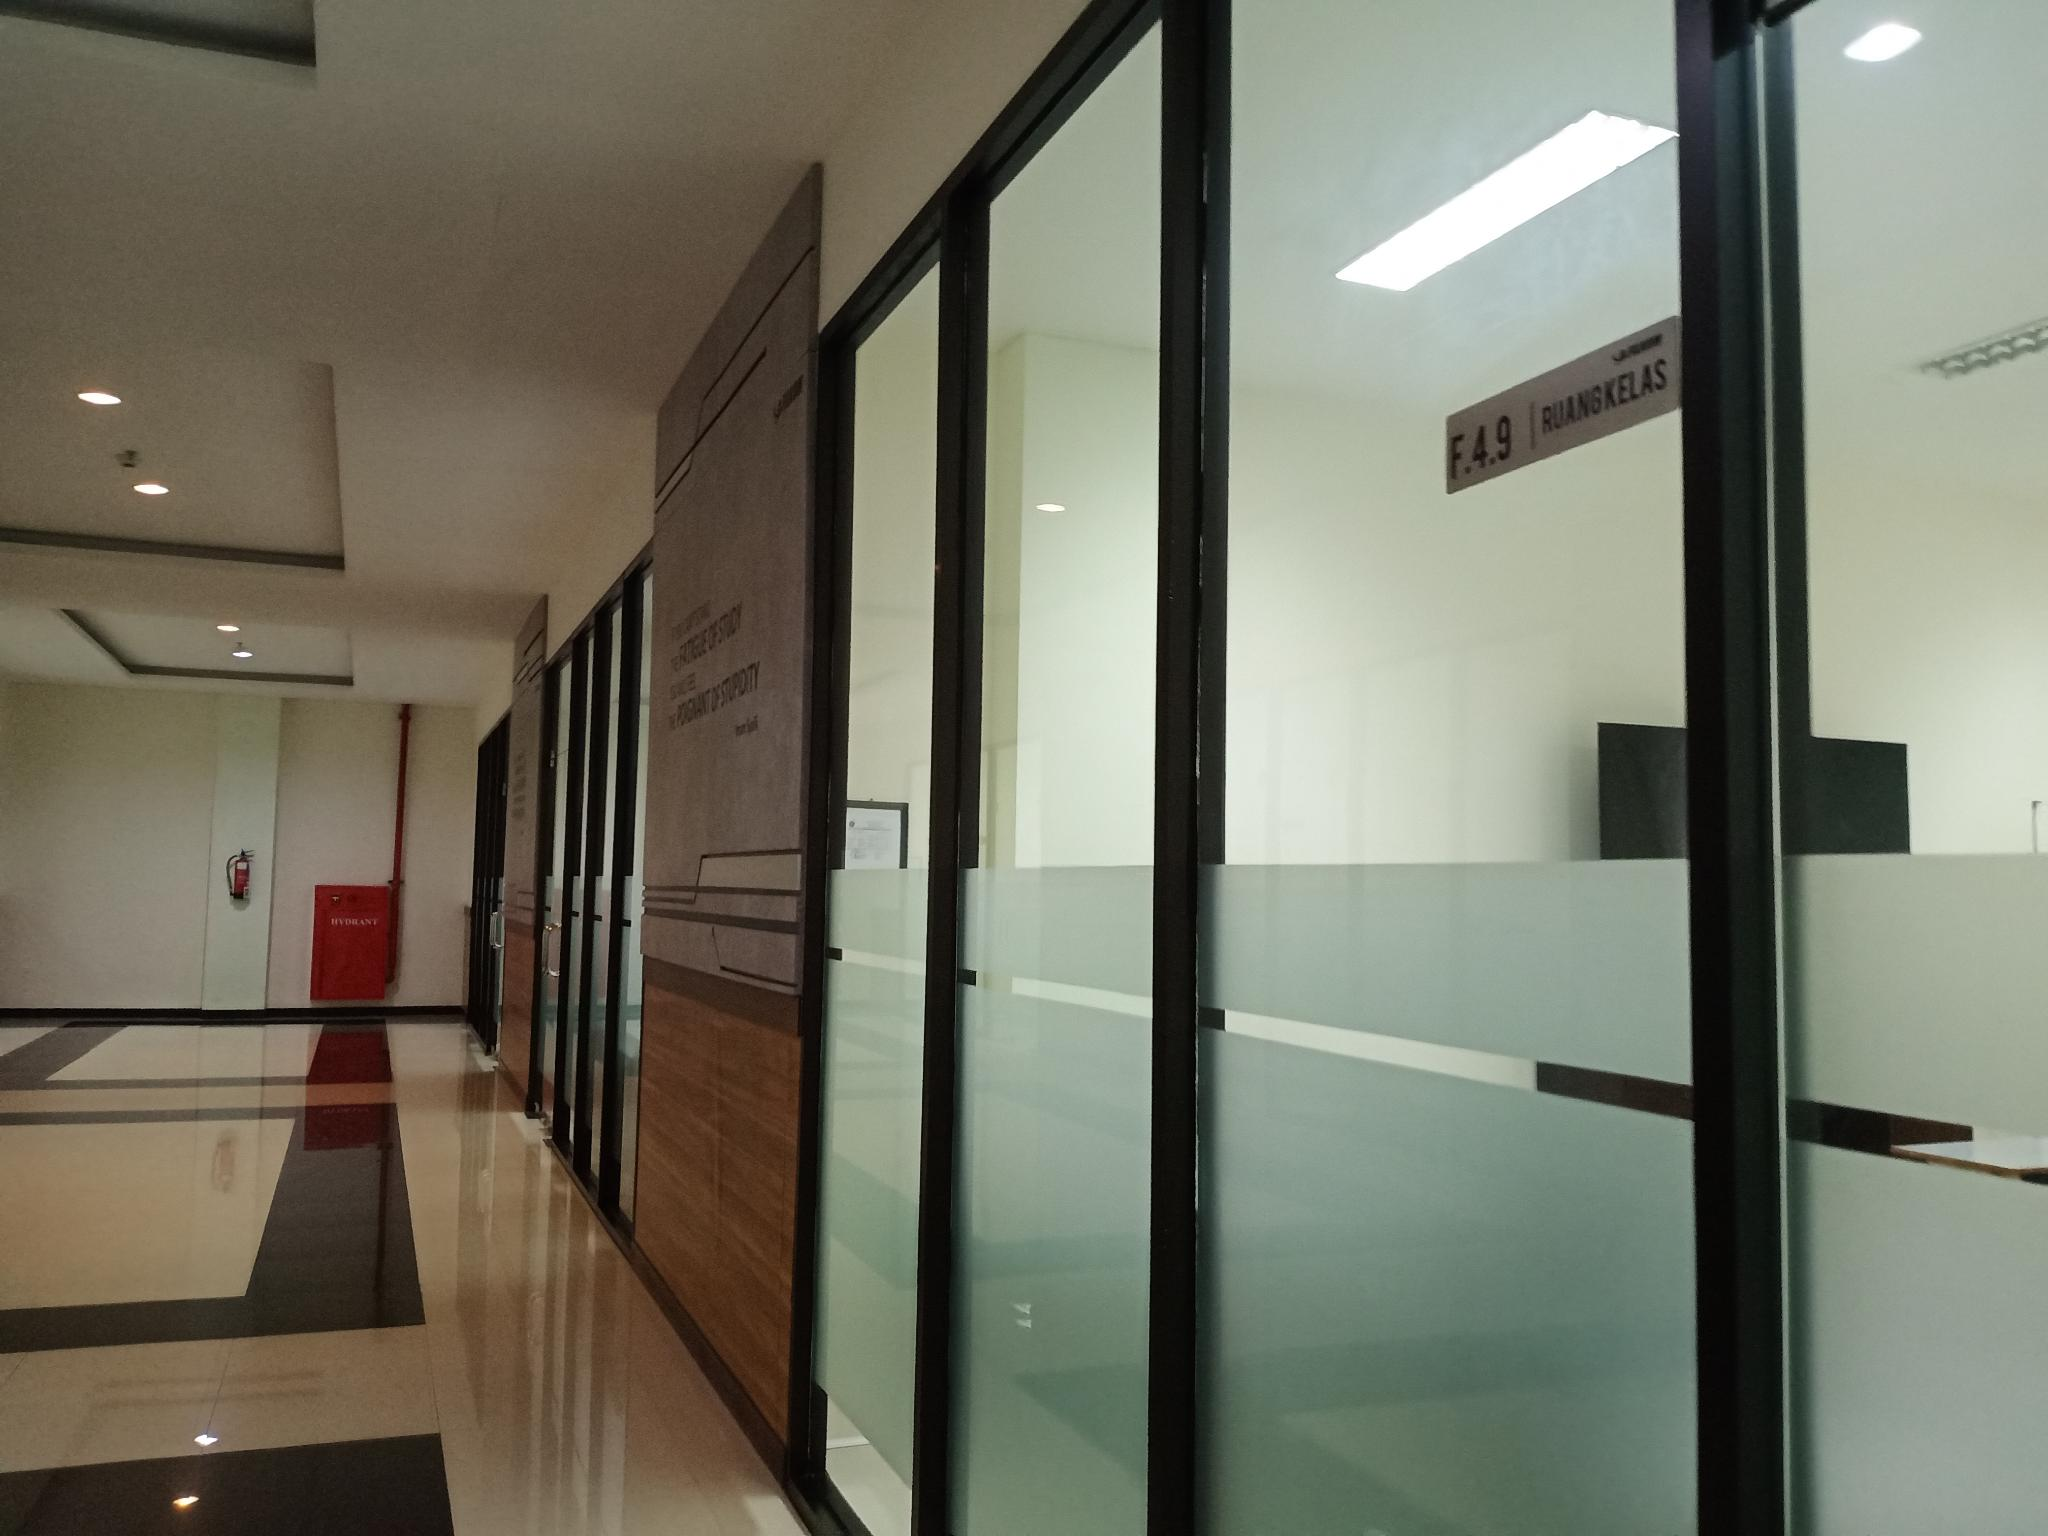plate: (1447, 313, 1682, 494)
